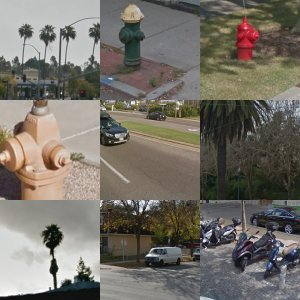棕梠樹: (28, 120, 86, 165), (243, 37, 277, 61)
汽車: (1, 220, 59, 269), (227, 151, 284, 193), (155, 251, 201, 299), (145, 220, 200, 244)
煙囪: (124, 124, 149, 145)
行人穿越道: (100, 8, 192, 98), (1, 17, 98, 100)
